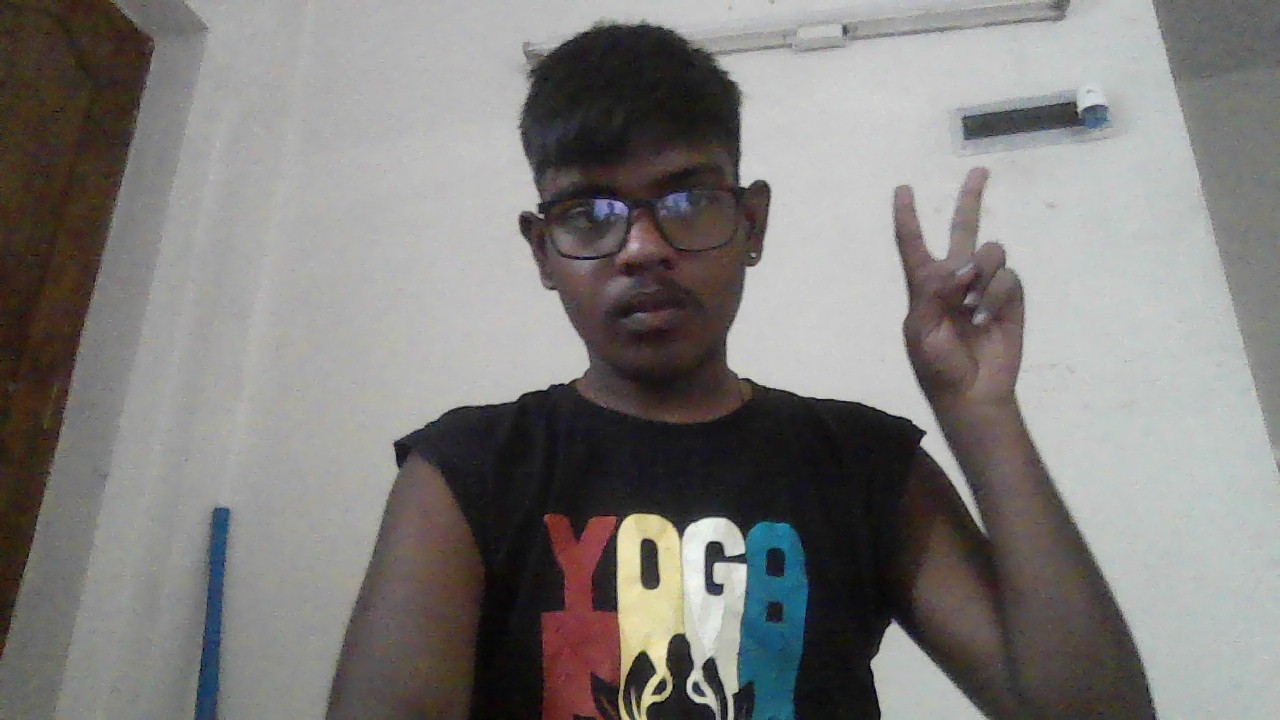V: (894, 167, 1023, 420)
